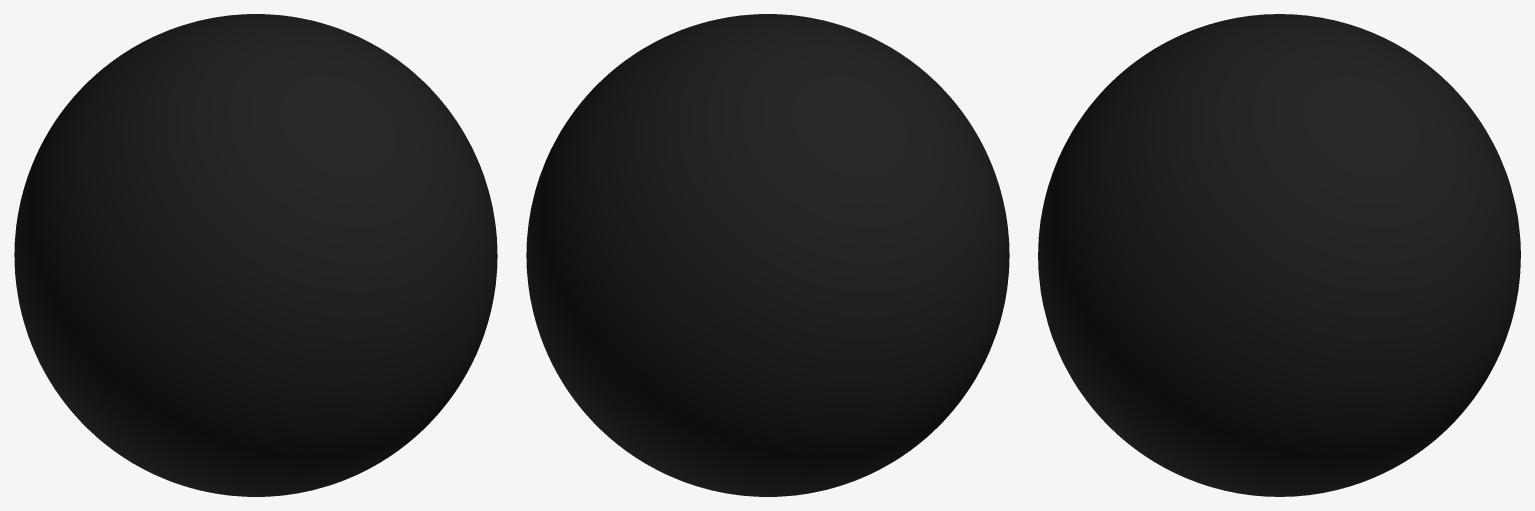
The model's file is ball8.gltf.
The picture shows the model from 3 angles, left to right: view 1: azimuth 30°, elevation 25°; view 2: azimuth 150°, elevation 25°; view 3: azimuth 270°, elevation 25°; orthographic projection.
Parts seen in each view (by area): view 1: ball; view 2: ball; view 3: ball.
Part boxes in pixels (x1=…): ball: x1=14, y1=14, x2=497, y2=496; ball: x1=526, y1=14, x2=1009, y2=496; ball: x1=1038, y1=14, x2=1520, y2=496.
Size of the model in its own units: 200 by 200 by 200.
Materials: 1 (1 with a texture image).
